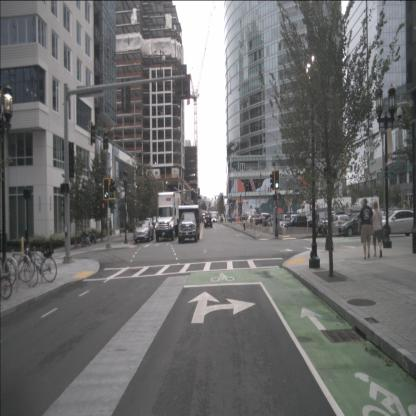human-pedestrian-adult: (358, 198, 374, 260), (371, 201, 386, 258)
vehicle-car: (380, 210, 415, 238), (338, 213, 376, 237), (133, 220, 154, 243), (328, 214, 351, 233), (382, 212, 404, 229), (262, 216, 288, 229), (350, 209, 370, 222), (204, 215, 212, 229), (260, 212, 271, 222), (238, 213, 248, 221), (388, 206, 400, 212), (228, 216, 236, 223), (211, 216, 216, 223)
vehicle-motorcycle: (316, 218, 328, 238), (84, 229, 97, 244), (80, 235, 91, 247)
vehicle-truck: (154, 192, 181, 242), (176, 205, 200, 244), (282, 214, 314, 233), (354, 196, 379, 212), (328, 211, 352, 227), (296, 199, 310, 220), (254, 216, 270, 227), (142, 218, 156, 228), (201, 210, 208, 221)
